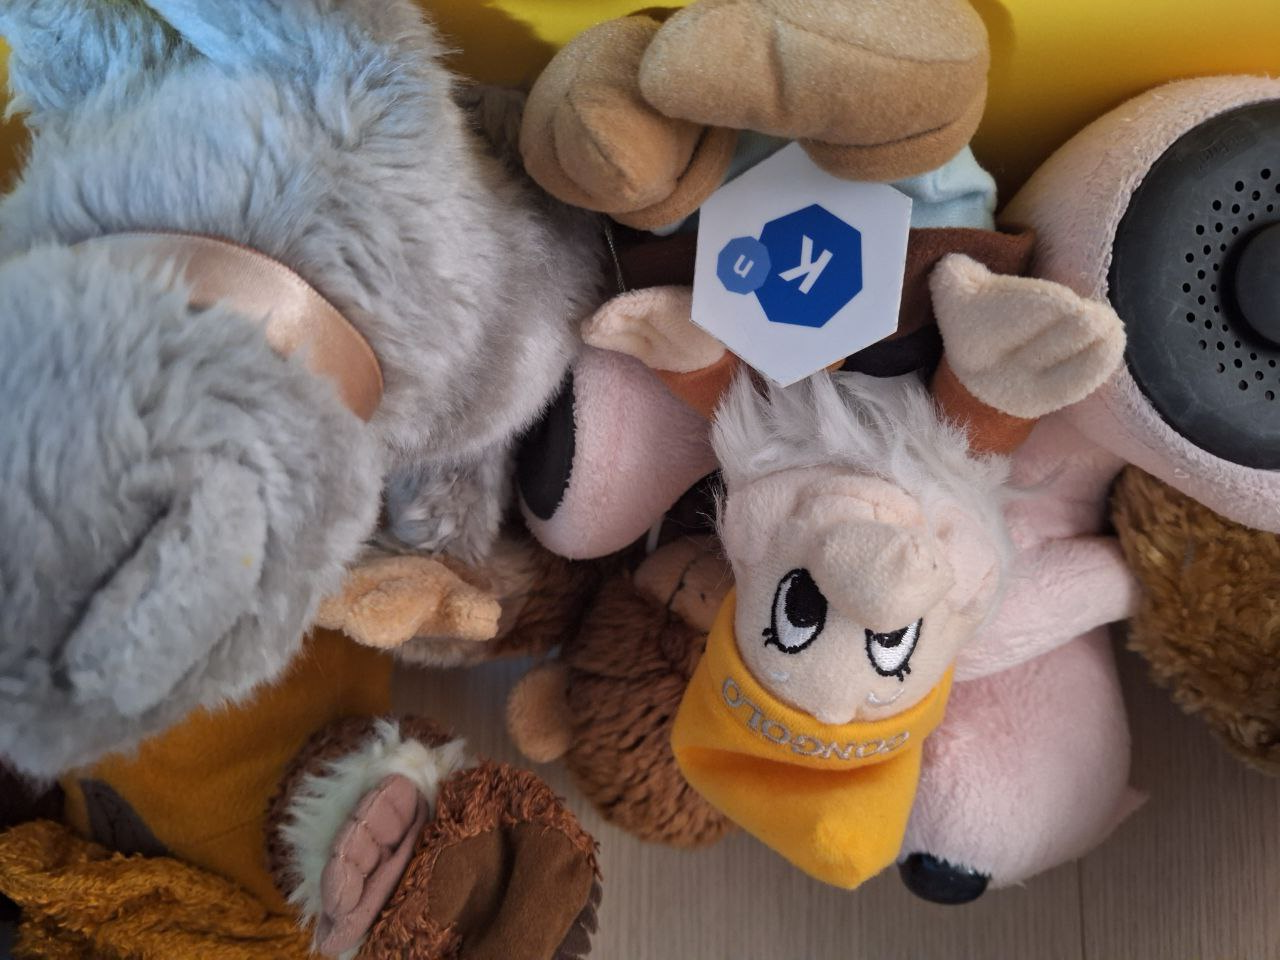knative: (716, 199, 866, 332)
